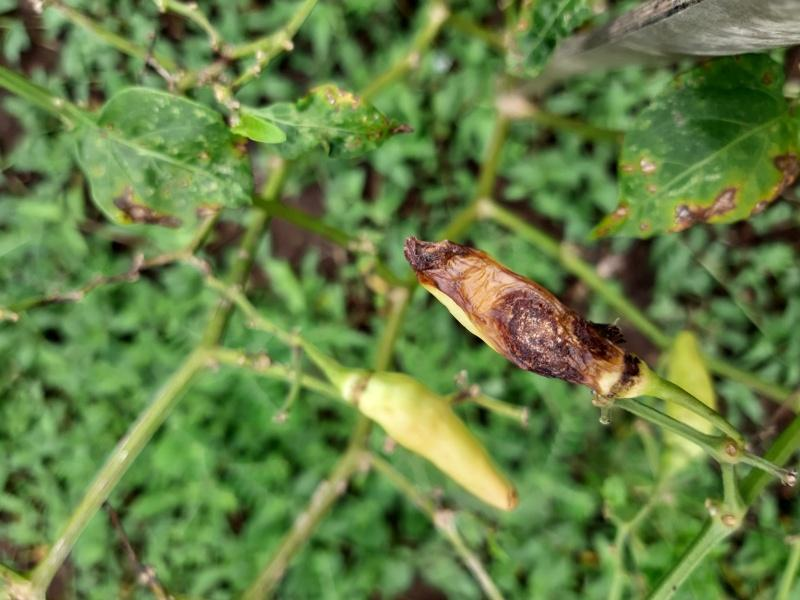antraknosa: (407, 238, 626, 390), (360, 370, 519, 508)
